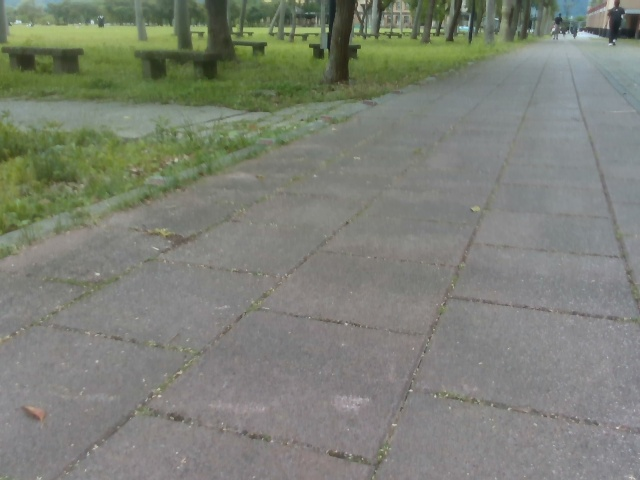grass: (0, 26, 548, 258), (0, 0, 569, 84)
road: (0, 37, 639, 479)
sidewalk: (0, 102, 156, 122)
